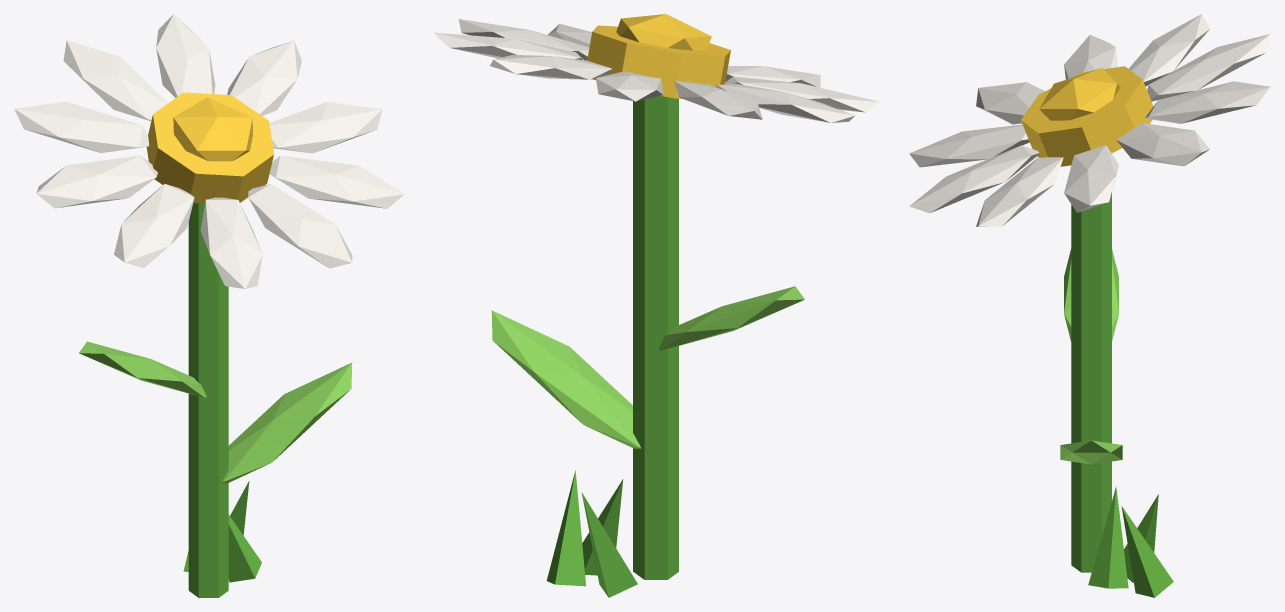
File: Daisy.fbx
3 renders of one model, left to right at view 1: azimuth 30°, elevation 25°; view 2: azimuth 150°, elevation 25°; view 3: azimuth 270°, elevation 25°, orthographic. The views are drawn at different scales.
Parts seen in each view (by area): view 1: Daisy; view 2: Daisy; view 3: Daisy.
Boxes of the visible parts, <box> form: Daisy: <box>14,14,404,597</box>; Daisy: <box>434,14,880,597</box>; Daisy: <box>909,14,1270,597</box>.
Size of the model in its own units: 2.99 by 4.16 by 2.67.
Materials: 1 (1 with a texture image).
